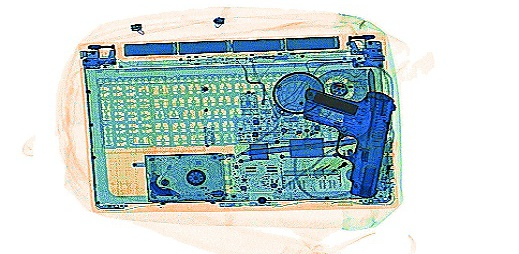lighter: (309, 142, 354, 180), (373, 135, 397, 192)
